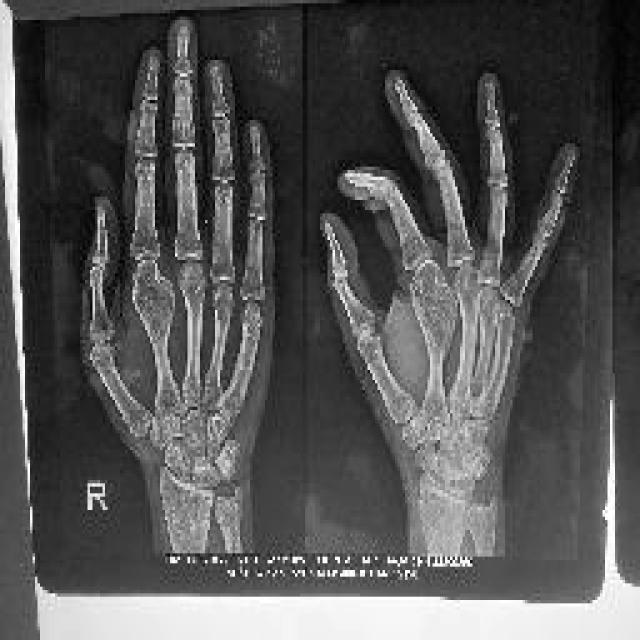bone-cancer: (411, 258, 458, 352), (132, 258, 175, 341)
